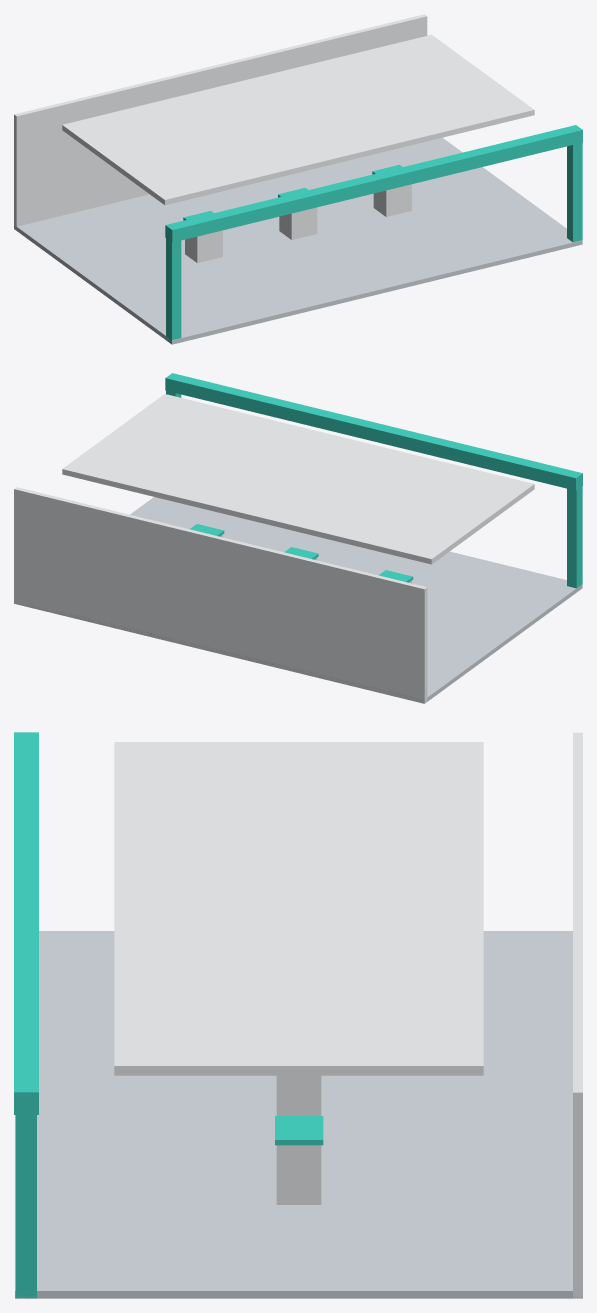
The picture shows the model from 3 angles, top to bottom: view 1: azimuth 30°, elevation 25°; view 2: azimuth 150°, elevation 25°; view 3: azimuth 270°, elevation 25°; orthographic projection. The views are drawn at different scales.
Parts seen in each view (by area): view 1: Exhibition Booth Concept; view 2: Exhibition Booth Concept; view 3: Exhibition Booth Concept.
Part boxes in pixels (x1,y1,x2,y2): Exhibition Booth Concept: (14,14,582,344); Exhibition Booth Concept: (14,373,582,703); Exhibition Booth Concept: (14,732,582,1298).
Bounding box in the file's own units: 12 × 3.34 × 8.01.
